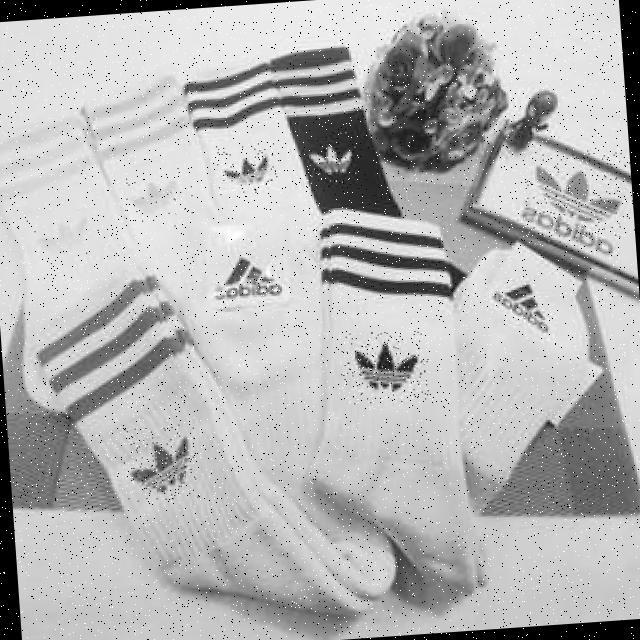Adidas: (520, 145, 635, 244), (338, 328, 431, 406), (23, 194, 107, 268), (121, 423, 198, 502), (122, 167, 194, 229), (300, 129, 366, 193), (212, 142, 281, 195)
